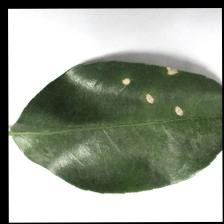canker: (116, 53, 187, 117)
